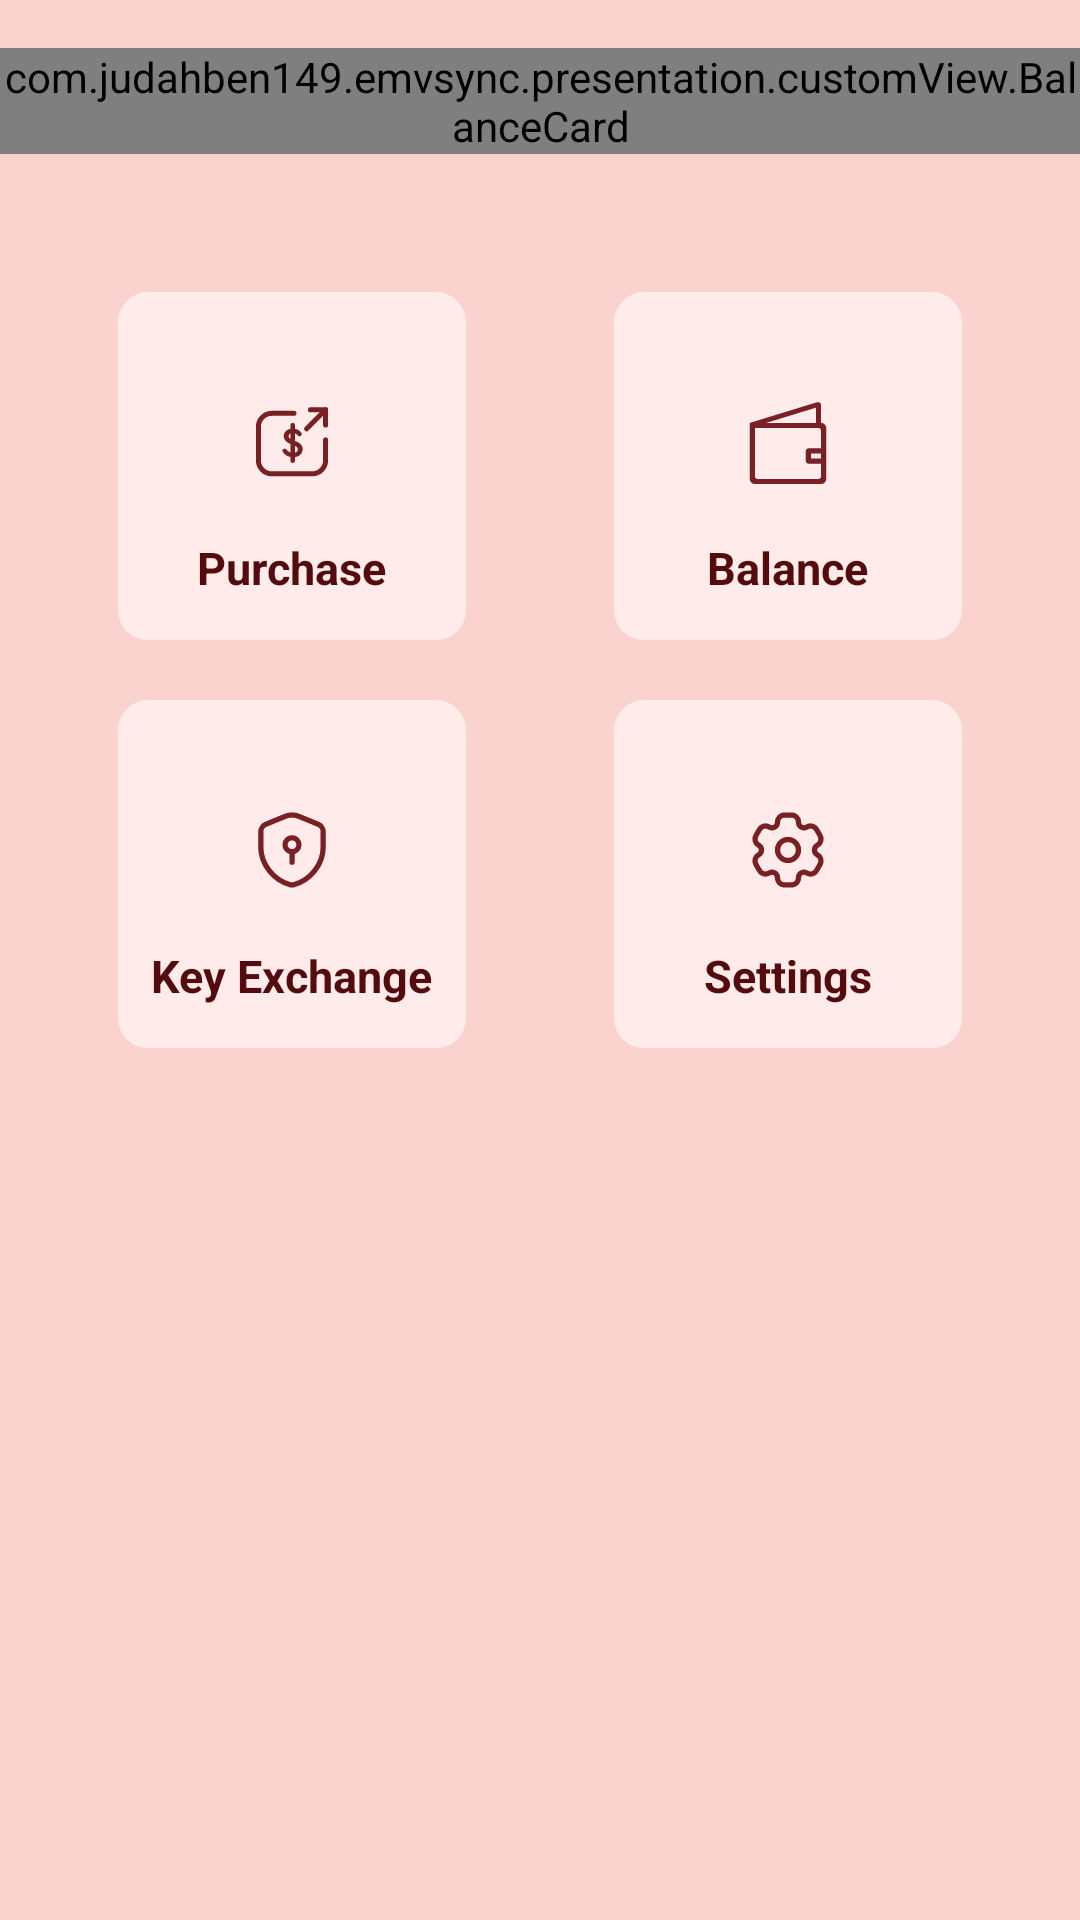

Screen size 1080w x 1920h. Icon name, then its center in pixels as point (x, y):
money: point (292, 442)
security: point (292, 850)
wallet: point (788, 443)
